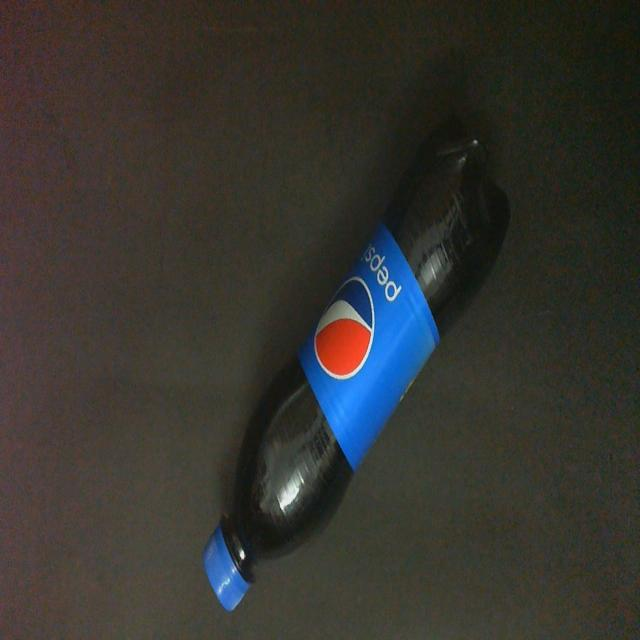non-defect: (201, 107, 512, 615)
